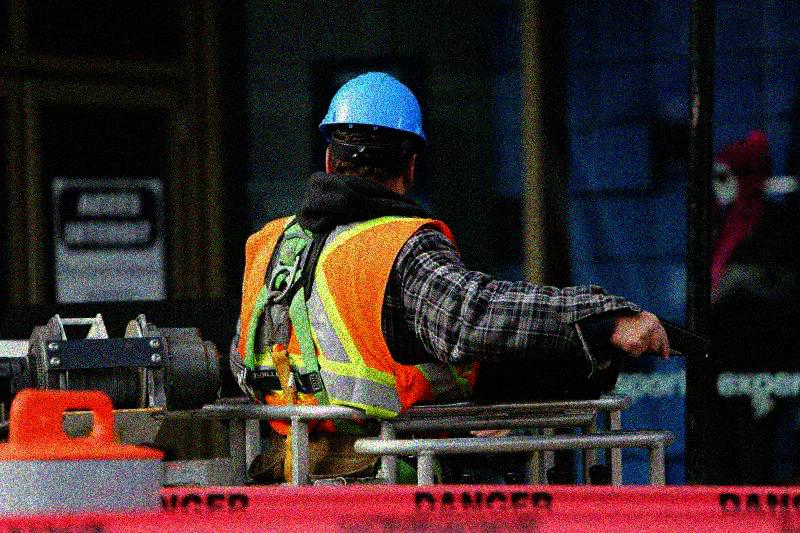helmet: (319, 71, 431, 196)
